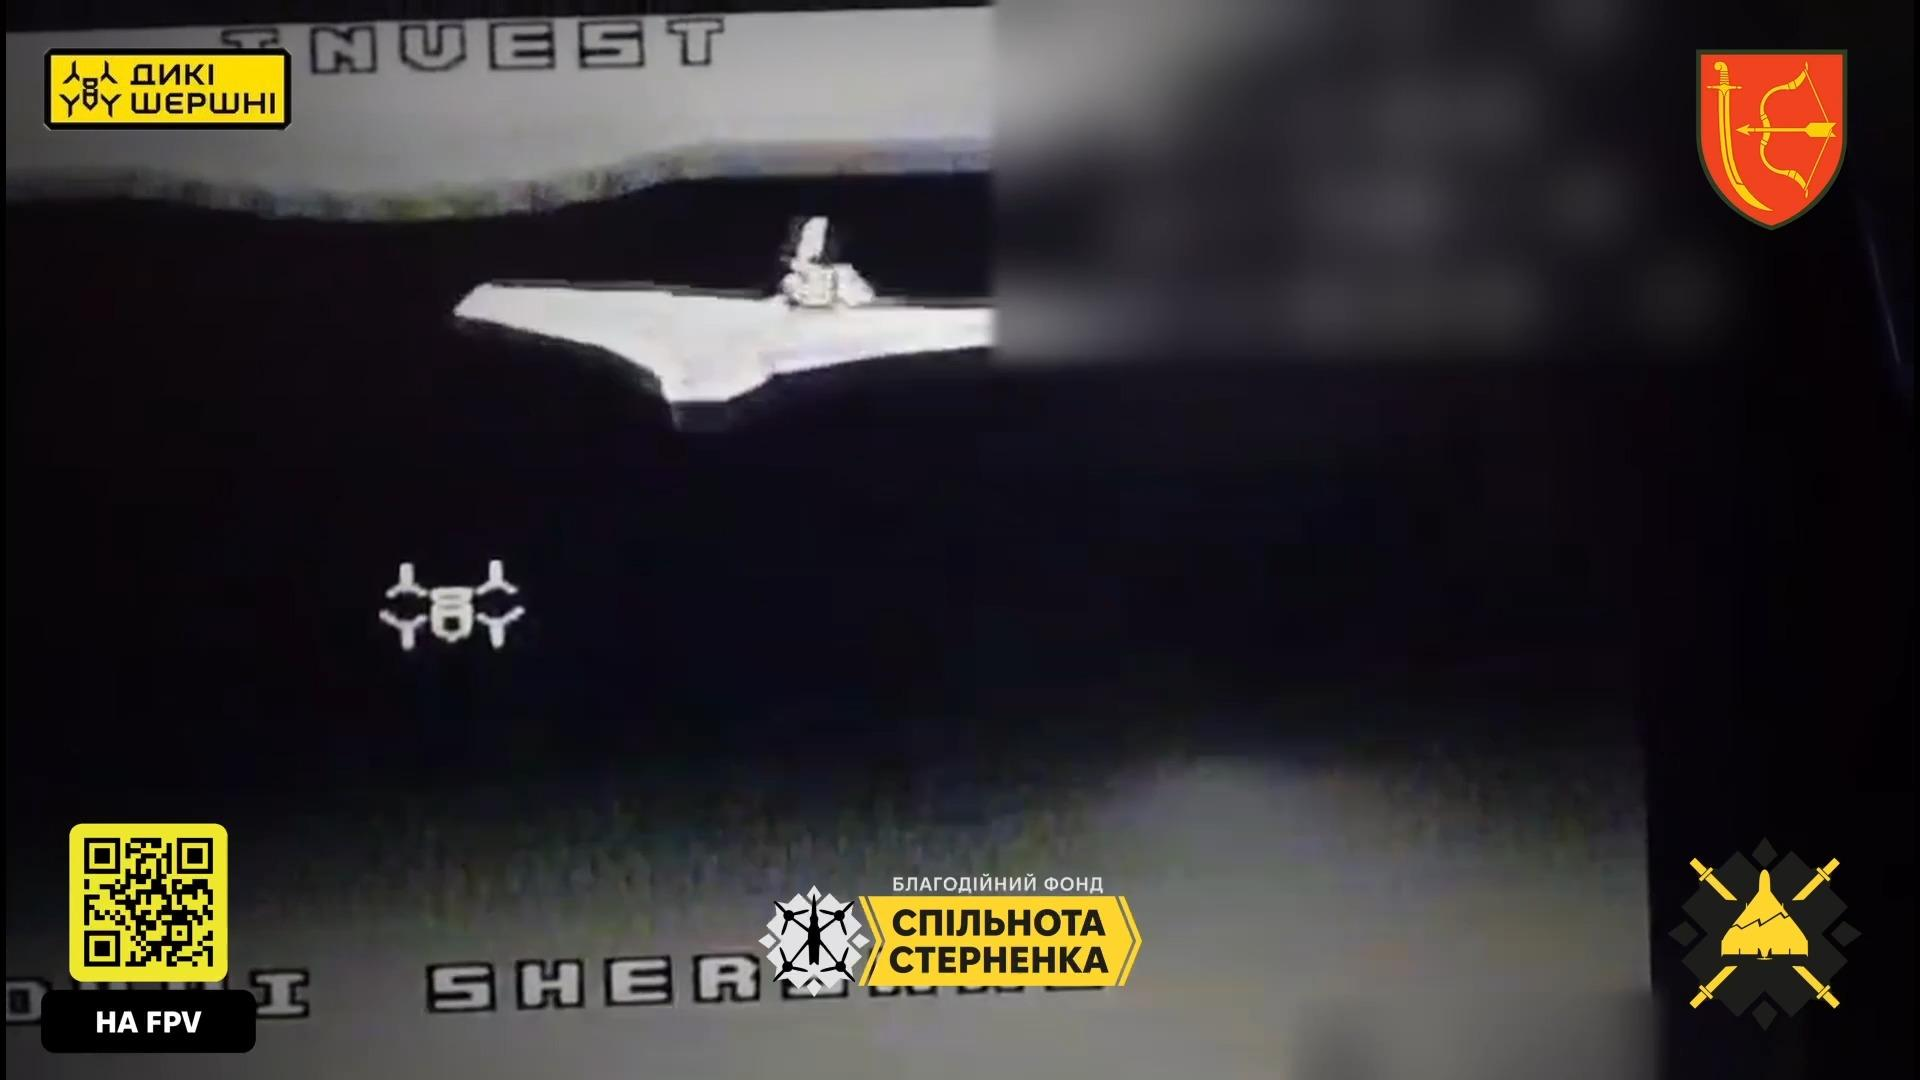Gerbera: (442, 216, 1001, 430)
